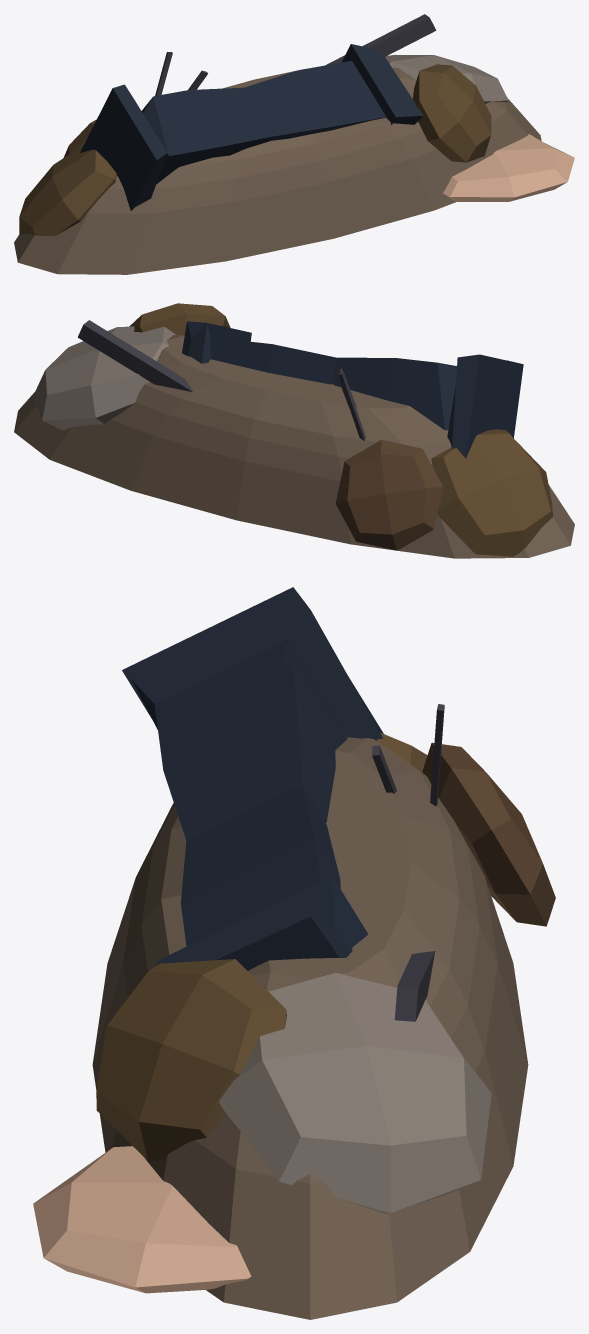
The model's file is Dirt.fbx.
3 views of the same model, one above another, from view 1: azimuth 30°, elevation 25°; view 2: azimuth 150°, elevation 25°; view 3: azimuth 270°, elevation 25° (orthographic). The views are drawn at different scales.
Parts seen in each view (by area): view 1: Cube.007; view 2: Cube.007; view 3: Cube.007.
Part boxes in pixels (box(x1,y1,x2,y2)): Cube.007: box(14, 14, 574, 274); Cube.007: box(14, 303, 574, 558); Cube.007: box(33, 587, 555, 1319).
Size of the model in its own units: 430 by 127 by 186.
